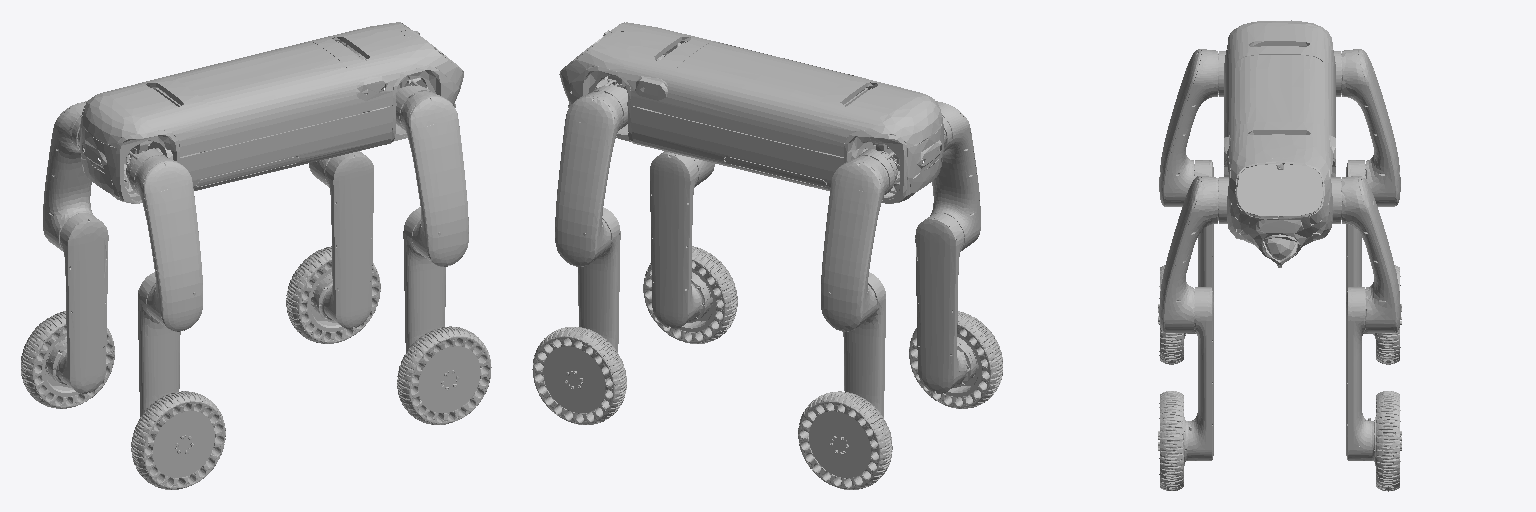
URDF robot description (urdf_20260423):
<?xml version="1.0" encoding="utf-8"?>
<!-- This URDF was automatically created by SolidWorks to URDF Exporter! Originally created by Stephen Brawner (brawner@gmail.com) 
     Commit Version: 1.6.0-4-g7f85cfe  Build Version: 1.6.7995.38578
     For more information, please see http://wiki.ros.org/sw_urdf_exporter -->
<robot
  name="urdf_20260423">
  <link
    name="Base_link">
    <inertial>
      <origin
        xyz="0.022644 -0.001048 0.006253"
        rpy="0 0 0" />
      <mass
        value="10.102" />
      <inertia
        ixx="0.040804057"
        ixy="0.003158398"
        ixz="-0.000128486"
        iyy="0.258243473"
        iyz="-0.000100824"
        izz="0.271783728" />
    </inertial>
    <visual>
      <origin
        xyz="0 0 0"
        rpy="0 0 0" />
      <geometry>
        <mesh
          filename="../meshes/Base_link.STL" />
      </geometry>
      <material
        name="">
        <color
          rgba="0.752941176470588 0.752941176470588 0.752941176470588 1" />
      </material>
    </visual>
    <collision>
      <origin
        xyz="0.025 0.0 0.009"
        rpy="0 0 0" />
      <geometry>
        <box size="0.71 0.22 0.188" />
      </geometry>
    </collision> 
  </link>
    
  <joint name="imu_joint" type="fixed">
    <parent link="Base_link"/>
    <child link="imu_link"/>
    <origin rpy="0 0 0" xyz="0 0 0"/>
  </joint>
  <link name="imu_link">
    <inertial>
      <mass value="0.001"/>
      <origin rpy="0 0 0" xyz="0 0 0"/>
      <inertia ixx="0.0001" ixy="0" ixz="0" iyy="0.0001" iyz="0" izz="0.0001"/>
    </inertial>
    <visual>
      <origin rpy="0 0 0" xyz="0 0 0"/>
      <geometry>
        <box size="0.001 0.001 0.001"/>
      </geometry>
    </visual>
    <collision>
      <origin rpy="0 0 0" xyz="0 0 0"/>
      <geometry>
        <box size=".001 .001 .001"/>
      </geometry>
    </collision>
  </link>
  
  <link
    name="FR_hip_link">
    <inertial>
      <origin
        xyz="0.041936 -0.037476 0.001212"
        rpy="0 0 0" />
      <mass
        value="0.594" />
      <inertia
        ixx="0.000478845"
        ixy="0.000030516"
        ixz="-0.000013605"
        iyy="0.000466795"
        iyz="0.000001550"
        izz="0.000491449" />
    </inertial>
    <visual>
      <origin
        xyz="0 0 0"
        rpy="0 0 0" />
      <geometry>
        <mesh
          filename="../meshes/FR_hip_link.STL" />
      </geometry>
      <material
        name="">
        <color
          rgba="0.752941176470588 0.752941176470588 0.752941176470588 1" />
      </material>
    </visual>
  </link>
  <joint
    name="FR_hip_joint"
    type="revolute">
    <origin
      xyz="0.2131 -0.05 0"
      rpy="0 0 0" />
    <parent
      link="Base_link" />
    <child
      link="FR_hip_link" />
    <axis
      xyz="1 0 0" />
    <limit
      lower="-0.34889"
      upper="0.61056"
      effort="48"
      velocity="12.57" />
  </joint>
  <link
    name="FR_thigh_link">
    <inertial>
      <origin
        xyz="-0.000440 -0.047736 -0.162708"
        rpy="0 0 0" />
      <mass
        value="0.853" />
      <inertia
        ixx="0.005786948"
        ixy="0.000000549"
        ixz="-0.000002171"
        iyy="0.005775438"
        iyz="-0.000818214"
        izz="0.000898839" />
    </inertial>
    <visual>
      <origin
        xyz="0 0 0"
        rpy="0 0 0" />
      <geometry>
        <mesh
          filename="../meshes/FR_thigh_link.STL" />
      </geometry>
      <material
        name="">
        <color
          rgba="0.752941176470588 0.752941176470588 0.752941176470588 1" />
      </material>
    </visual>
    <collision>
      <origin
        xyz="0.0 -0.062 -0.12"
        rpy="-0.21 0 0" />
      <geometry>
        <box size="0.095 0.035 0.25" />
      </geometry>
    </collision> 
  </link>
  <joint
    name="FR_thigh_joint"
    type="revolute">
    <origin
      xyz="0.0432 -0.06248 0"
      rpy="0 0 0" />
    <parent
      link="FR_hip_link" />
    <child
      link="FR_thigh_link" />
    <axis
      xyz="0 1 0" />
    <limit
      lower="-1.5613"
      upper="2.6952"
      effort="48"
      velocity="12.57" />
  </joint>
  <link
    name="FR_calf_link">
    <inertial>
      <origin
        xyz="0.000909 -0.016662 -0.194447"
        rpy="0 0 0" />
      <mass
        value="0.688" />
      <inertia
        ixx="0.020013503"
        ixy="0.000011235"
        ixz="0.000034707"
        iyy="0.020228686"
        iyz="-0.001315897"
        izz="0.001280043" />
    </inertial>
    <visual>
      <origin
        xyz="0 0 0"
        rpy="0 0 0" />
      <geometry>
        <mesh
          filename="../meshes/FR_calf_link.STL" />
      </geometry>
      <material
        name="">
        <color
          rgba="0.752941176470588 0.752941176470588 0.752941176470588 1" />
      </material>
    </visual>
    <collision>
      <origin
        xyz="0.0 0.01 -0.13"
        rpy="0 0 0" />
      <geometry>
        <box size="0.08 0.033 0.32" />
      </geometry>
    </collision> 
  </link>
  <joint
    name="FR_calf_joint"
    type="revolute">
    <origin
      xyz="0 -0.02915 -0.21"
      rpy="0 0 0" />
    <parent
      link="FR_thigh_link" />
    <child
      link="FR_calf_link" />
    <axis
      xyz="0 1 0" />
    <limit
      lower="-2.7475"
      upper="1.4741"
      effort="48"
      velocity="12.57" />
  </joint>
  <link
    name="FR_foot_link">
    <inertial>
      <origin
        xyz="0.000000 0.013540 0.000001"
        rpy="0 0 0" />
      <mass
        value="0.420" />
      <inertia
        ixx="0.001068399"
        ixy="0.000000000"
        ixz="-0.000000003"
        iyy="0.002037382"
        iyz="0.000000000"
        izz="0.001068388" />
    </inertial>
    <visual>
      <origin
        xyz="0 0 0"
        rpy="0 0 0" />
      <geometry>
        <mesh
          filename="../meshes/FR_foot_link.STL" />
      </geometry>
      <material
        name="">
        <color
          rgba="0.752941176470588 0.752941176470588 0.752941176470588 1" />
      </material>
    </visual>
    <collision>
      <origin
        xyz="0 0 0"
        rpy="0 0 0" />
      <geometry>
        <mesh
          filename="../meshes/FR_foot_link.STL" />
      </geometry>
    </collision>
  </link>
  <joint
    name="FR_foot_joint"
    type="continuous">
    <origin
      xyz="0 -0.060797 -0.25"
      rpy="0 0 0" />
    <parent
      link="FR_calf_link" />
    <child
      link="FR_foot_link" />
    <axis
      xyz="0 1 0" />
    <limit
      effort="24"
      velocity="37.7" />
  </joint>
  <link
    name="FL_hip_link">
    <inertial>
      <origin
        xyz="0.042292 0.037471 0.000978"
        rpy="0 0 0" />
      <mass
        value="0.594" />
      <inertia
        ixx="0.000477476"
        ixy="-0.000028098"
        ixz="-0.000014122"
        iyy="0.000467730"
        iyz="-0.000003242"
        izz="0.000494014" />
    </inertial>
    <visual>
      <origin
        xyz="0 0 0"
        rpy="0 0 0" />
      <geometry>
        <mesh
          filename="../meshes/FL_hip_link.STL" />
      </geometry>
      <material
        name="">
        <color
          rgba="0.752941176470588 0.752941176470588 0.752941176470588 1" />
      </material>
    </visual>
  </link>
  <joint
    name="FL_hip_joint"
    type="revolute">
    <origin
      xyz="0.2131 0.05 0"
      rpy="0 0 0" />
    <parent
      link="Base_link" />
    <child
      link="FL_hip_link" />
    <axis
      xyz="1 0 0" />
    <limit
      lower="-0.61056"
      upper="0.34889"
      effort="48"
      velocity="12.57" />
  </joint>
  <link
    name="FL_thigh_link">
    <inertial>
      <origin
        xyz="-0.000658 0.047743 -0.162875"
        rpy="0 0 0" />
      <mass
        value="0.853" />
      <inertia
        ixx="0.005802502"
        ixy="0.000003729"
        ixz="-0.000013513"
        iyy="0.005792851"
        iyz="0.000821001"
        izz="0.000901601" />
    </inertial>
    <visual>
      <origin
        xyz="0 0 0"
        rpy="0 0 0" />
      <geometry>
        <mesh
          filename="../meshes/FL_thigh_link.STL" />
      </geometry>
      <material
        name="">
        <color
          rgba="0.752941176470588 0.752941176470588 0.752941176470588 1" />
      </material>
    </visual>
    <collision>
      <origin
        xyz="0.0 0.062 -0.12"
        rpy="0.21 0 0" />
      <geometry>
        <box size="0.095 0.035 0.25" />
      </geometry>
    </collision> 
  </link>
  <joint
    name="FL_thigh_joint"
    type="revolute">
    <origin
      xyz="0.0432 0.06248 0"
      rpy="0 0 0" />
    <parent
      link="FL_hip_link" />
    <child
      link="FL_thigh_link" />
    <axis
      xyz="0 1 0" />
    <limit
      lower="-1.5613"
      upper="2.6952"
      effort="48"
      velocity="12.57" />
  </joint>
  <link
    name="FL_calf_link">
    <inertial>
      <origin
        xyz="-0.000904 0.016656 -0.217363"
        rpy="0 0 0" />
      <mass
        value="0.688" />
      <inertia
        ixx="0.018453974"
        ixy="0.000011100"
        ixz="-0.000020596"
        iyy="0.018669061"
        iyz="0.000334096"
        izz="0.001280151" />
    </inertial>
    <visual>
      <origin
        xyz="0 0 0"
        rpy="0 0 0" />
      <geometry>
        <mesh
          filename="../meshes/FL_calf_link.STL" />
      </geometry>
      <material
        name="">
        <color
          rgba="0.752941176470588 0.752941176470588 0.752941176470588 1" />
      </material>
    </visual>
    <collision>
      <origin
        xyz="0.0 -0.01 -0.13"
        rpy="0 0 0" />
      <geometry>
        <box size="0.08 0.033 0.32" />
      </geometry>
    </collision> 
  </link>
  <joint
    name="FL_calf_joint"
    type="revolute">
    <origin
      xyz="0 0.02915 -0.21"
      rpy="0 0 0" />
    <parent
      link="FL_thigh_link" />
    <child
      link="FL_calf_link" />
    <axis
      xyz="0 1 0" />
    <limit
      lower="-2.7475"
      upper="1.4741"
      effort="48"
      velocity="12.57" />
  </joint>
  <link
    name="FL_foot_link">
    <inertial>
      <origin
        xyz="0.000000 -0.013540 0.000000"
        rpy="0 0 0" />
      <mass
        value="0.420" />
      <inertia
        ixx="0.001068390"
        ixy="0.000000000"
        ixz="0.000000005"
        iyy="0.002037382"
        iyz="0.000000000"
        izz="0.001068397" />
    </inertial>
    <visual>
      <origin
        xyz="0 0 0"
        rpy="0 0 0" />
      <geometry>
        <mesh
          filename="../meshes/FL_foot_link.STL" />
      </geometry>
      <material
        name="">
        <color
          rgba="0.752941176470588 0.752941176470588 0.752941176470588 1" />
      </material>
    </visual>
    <collision>
      <origin
        xyz="0 0 0"
        rpy="0 0 0" />
      <geometry>
        <mesh
          filename="../meshes/FL_foot_link.STL" />
      </geometry>
    </collision>
  </link>
  <joint
    name="FL_foot_joint"
    type="continuous">
    <origin
      xyz="0 0.060797 -0.25"
      rpy="0 0 0" />
    <parent
      link="FL_calf_link" />
    <child
      link="FL_foot_link" />
    <axis
      xyz="0 1 0" />
    <limit
      effort="24"
      velocity="37.7" />
  </joint>
  <link
    name="RR_hip_link">
    <inertial>
      <origin
        xyz="-0.042292 -0.037471 0.000978"
        rpy="0 0 0" />
      <mass
        value="0.594" />
      <inertia
        ixx="0.000477476"
        ixy="-0.000028098"
        ixz="0.000014122"
        iyy="0.000467730"
        iyz="0.000003242"
        izz="0.000494014" />
    </inertial>
    <visual>
      <origin
        xyz="0 0 0"
        rpy="0 0 0" />
      <geometry>
        <mesh
          filename="../meshes/RR_hip_link.STL" />
      </geometry>
      <material
        name="">
        <color
          rgba="0.752941176470588 0.752941176470588 0.752941176470588 1" />
      </material>
    </visual>
  </link>
  <joint
    name="RR_hip_joint"
    type="revolute">
    <origin
      xyz="-0.22064 -0.05 0"
      rpy="0 0 0" />
    <parent
      link="Base_link" />
    <child
      link="RR_hip_link" />
    <axis
      xyz="1 0 0" />
    <limit
      lower="-0.34889"
      upper="0.61056"
      effort="48"
      velocity="12.57" />
  </joint>
  <link
    name="RR_thigh_link">
    <inertial>
      <origin
        xyz="0.000658 -0.047743 -0.162875"
        rpy="0 0 0" />
      <mass
        value="0.853" />
      <inertia
        ixx="0.005802502"
        ixy="0.000003729"
        ixz="0.000013513"
        iyy="0.005792851"
        iyz="-0.000821001"
        izz="0.000901601" />
    </inertial>
    <visual>
      <origin
        xyz="0 0 0"
        rpy="0 0 0" />
      <geometry>
        <mesh
          filename="../meshes/RR_thigh_link.STL" />
      </geometry>
      <material
        name="">
        <color
          rgba="0.752941176470588 0.752941176470588 0.752941176470588 1" />
      </material>
    </visual>
    <collision>
      <origin
        xyz="0.0 -0.062 -0.12"
        rpy="-0.21 0 0" />
      <geometry>
        <box size="0.095 0.035 0.25" />
      </geometry>
     </collision> 
  </link>
  <joint
    name="RR_thigh_joint"
    type="revolute">
    <origin
      xyz="-0.0432 -0.06248 0"
      rpy="0 0 0" />
    <parent
      link="RR_hip_link" />
    <child
      link="RR_thigh_link" />
    <axis
      xyz="0 1 0" />
    <limit
      lower="-2.6952"
      upper="1.5613"
      effort="48"
      velocity="12.57" />
  </joint>
  <link
    name="RR_calf_link">
    <inertial>
      <origin
        xyz="0.000903 -0.016656 -0.217363"
        rpy="0 0 0" />
      <mass
        value="0.688" />
      <inertia
        ixx="0.018453974"
        ixy="0.000011100"
        ixz="0.000020596"
        iyy="0.018669061"
        iyz="-0.000334096"
        izz="0.001280151" />
    </inertial>
    <visual>
      <origin
        xyz="0 0 0"
        rpy="0 0 0" />
      <geometry>
        <mesh
          filename="../meshes/RR_calf_link.STL" />
      </geometry>
      <material
        name="">
        <color
          rgba="0.752941176470588 0.752941176470588 0.752941176470588 1" />
      </material>
    </visual>
    <collision>
      <origin
        xyz="0.0 0.01 -0.13"
        rpy="0 0 0" />
      <geometry>
        <box size="0.08 0.033 0.32" />
      </geometry>
    </collision> 
  </link>
  <joint
    name="RR_calf_joint"
    type="revolute">
    <origin
      xyz="0 -0.02915 -0.21"
      rpy="0 0 0" />
    <parent
      link="RR_thigh_link" />
    <child
      link="RR_calf_link" />
    <axis
      xyz="0 1 0" />
    <limit
      lower="-1.4741"
      upper="2.7475"
      effort="48"
      velocity="12.57" />
  </joint>
  <link
    name="RR_foot_link">
    <inertial>
      <origin
        xyz="-0.000001 0.013540 0.000000"
        rpy="0 0 0" />
      <mass
        value="0.420" />
      <inertia
        ixx="0.001068388"
        ixy="0.000000000"
        ixz="0.000000001"
        iyy="0.002037382"
        iyz="0.000000000"
        izz="0.001068399" />
    </inertial>
    <visual>
      <origin
        xyz="0 0 0"
        rpy="0 0 0" />
      <geometry>
        <mesh
          filename="../meshes/RR_foot_link.STL" />
      </geometry>
      <material
        name="">
        <color
          rgba="0.752941176470588 0.752941176470588 0.752941176470588 1" />
      </material>
    </visual>
    <collision>
      <origin
        xyz="0 0 0"
        rpy="0 0 0" />
      <geometry>
        <mesh
          filename="../meshes/RR_foot_link.STL" />
      </geometry>
    </collision>
  </link>
  <joint
    name="RR_foot_joint"
    type="continuous">
    <origin
      xyz="0 -0.060797 -0.25"
      rpy="0 0 0" />
    <parent
      link="RR_calf_link" />
    <child
      link="RR_foot_link" />
    <axis
      xyz="0 1 0" />
    <limit
      effort="24"
      velocity="37.7" />
  </joint>
  <link
    name="RL_hip_link">
    <inertial>
      <origin
        xyz="-0.041936 0.037476 0.001212"
        rpy="0 0 0" />
      <mass
        value="0.594" />
      <inertia
        ixx="0.000478845"
        ixy="0.000030516"
        ixz="0.000013605"
        iyy="0.000466795"
        iyz="-0.000001550"
        izz="0.000491449" />
    </inertial>
    <visual>
      <origin
        xyz="0 0 0"
        rpy="0 0 0" />
      <geometry>
        <mesh
          filename="../meshes/RL_hip_link.STL" />
      </geometry>
      <material
        name="">
        <color
          rgba="0.752941176470588 0.752941176470588 0.752941176470588 1" />
      </material>
    </visual>
  </link>
  <joint
    name="RL_hip_joint"
    type="revolute">
    <origin
      xyz="-0.22064 0.05 0"
      rpy="0 0 0" />
    <parent
      link="Base_link" />
    <child
      link="RL_hip_link" />
    <axis
      xyz="1 0 0" />
    <limit
      lower="-0.61056"
      upper="0.34889"
      effort="48"
      velocity="12.57" />
  </joint>
  <link
    name="RL_thigh_link">
    <inertial>
      <origin
        xyz="0.000440 0.047736 -0.162708"
        rpy="0 0 0" />
      <mass
        value="0.853" />
      <inertia
        ixx="0.005786948"
        ixy="0.000000549"
        ixz="0.000002171"
        iyy="0.005775438"
        iyz="0.000818214"
        izz="0.000898839" />
    </inertial>
    <visual>
      <origin
        xyz="0 0 0"
        rpy="0 0 0" />
      <geometry>
        <mesh
          filename="../meshes/RL_thigh_link.STL" />
      </geometry>
      <material
        name="">
        <color
          rgba="0.752941176470588 0.752941176470588 0.752941176470588 1" />
      </material>
    </visual>
    <collision>
      <origin
        xyz="0.0 0.062 -0.12"
        rpy="0.21 0 0" />
      <geometry>
        <box size="0.095 0.035 0.25" />
      </geometry>
    </collision> 
  </link>
  <joint
    name="RL_thigh_joint"
    type="revolute">
    <origin
      xyz="-0.0432 0.06248 0"
      rpy="0 0 0" />
    <parent
      link="RL_hip_link" />
    <child
      link="RL_thigh_link" />
    <axis
      xyz="0 1 0" />
    <limit
      lower="-2.6952"
      upper="1.5613"
      effort="48"
      velocity="12.57" />
  </joint>
  <link
    name="RL_calf_link">
    <inertial>
      <origin
        xyz="-0.000908 0.016662 -0.194447"
        rpy="0 0 0" />
      <mass
        value="0.688" />
      <inertia
        ixx="0.020013503"
        ixy="0.000011235"
        ixz="-0.000034707"
        iyy="0.020228686"
        iyz="0.001315897"
        izz="0.001280043" />
    </inertial>
    <visual>
      <origin
        xyz="0 0 0"
        rpy="0 0 0" />
      <geometry>
        <mesh
          filename="../meshes/RL_calf_link.STL" />
      </geometry>
      <material
        name="">
        <color
          rgba="0.752941176470588 0.752941176470588 0.752941176470588 1" />
      </material>
    </visual>
    <collision>
      <origin
        xyz="0.0 -0.01 -0.13"
        rpy="0 0 0" />
      <geometry>
        <box size="0.08 0.033 0.32" />
      </geometry>
    </collision> 
  </link>
  <joint
    name="RL_calf_joint"
    type="revolute">
    <origin
      xyz="0 0.02915 -0.21"
      rpy="0 0 0" />
    <parent
      link="RL_thigh_link" />
    <child
      link="RL_calf_link" />
    <axis
      xyz="0 1 0" />
    <limit
      lower="-1.4741"
      upper="2.7475"
      effort="48"
      velocity="12.57" />
  </joint>
  <link
    name="RL_foot_link">
    <inertial>
      <origin
        xyz="0.000000 -0.013540 0.000000"
        rpy="0 0 0" />
      <mass
        value="0.420" />
      <inertia
        ixx="0.001068388"
        ixy="0.000000000"
        ixz="0.000000003"
        iyy="0.002037382"
        iyz="0.000000000"
        izz="0.001068399" />
    </inertial>
    <visual>
      <origin
        xyz="0 0 0"
        rpy="0 0 0" />
      <geometry>
        <mesh
          filename="../meshes/RL_foot_link.STL" />
      </geometry>
      <material
        name="">
        <color
          rgba="0.752941176470588 0.752941176470588 0.752941176470588 1" />
      </material>
    </visual>
    <collision>
      <origin
        xyz="0 0 0"
        rpy="0 0 0" />
      <geometry>
        <mesh
          filename="../meshes/RL_foot_link.STL" />
      </geometry>
    </collision>
  </link>
  <joint
    name="RL_foot_joint"
    type="continuous">
    <origin
      xyz="0 0.060797 -0.25"
      rpy="0 0 0" />
    <parent
      link="RL_calf_link" />
    <child
      link="RL_foot_link" />
    <axis
      xyz="0 1 0" />
    <limit
      effort="24"
      velocity="37.7" />
  </joint>
</robot>

--- Render facts (derived) ---
The picture shows the robot from 3 angles, left to right: view 1: azimuth 30°, elevation 25°; view 2: azimuth 150°, elevation 25°; view 3: azimuth 270°, elevation 25°; orthographic projection.
Model urdf_20260423 with 18 links and 17 joints (12 revolute, 4 continuous, 1 fixed), rooted at Base_link, posed every joint at zero.
Links seen in each view (by area): view 1: Base_link, RR_thigh_link, FR_thigh_link, RL_calf_link, FL_calf_link, RR_foot_link, FR_foot_link, RL_thigh_link, RR_calf_link, FR_calf_link, FL_foot_link, RL_foot_link (+1 smaller); view 2: Base_link, FL_thigh_link, RL_thigh_link, RR_calf_link, FR_calf_link, RL_foot_link, FL_foot_link, RR_thigh_link, RL_calf_link, FL_calf_link, FR_foot_link, RR_foot_link (+1 smaller); view 3: Base_link, FL_thigh_link, FR_thigh_link, RR_thigh_link, RL_thigh_link, FL_calf_link, FR_calf_link, FL_foot_link, FR_foot_link, RL_calf_link, RR_calf_link, RR_foot_link (+1 smaller).
Boxes of the visible links, bbox=[...] form: Base_link: bbox=[80, 22, 463, 203]; RR_thigh_link: bbox=[134, 155, 202, 331]; FR_thigh_link: bbox=[400, 91, 468, 266]; RL_calf_link: bbox=[45, 213, 108, 393]; FL_calf_link: bbox=[311, 151, 373, 328]; RR_foot_link: bbox=[131, 391, 225, 489]; FR_foot_link: bbox=[397, 326, 491, 424]; RL_thigh_link: bbox=[43, 101, 93, 250]; RR_calf_link: bbox=[138, 272, 180, 416]; FR_calf_link: bbox=[403, 207, 445, 351]; FL_foot_link: bbox=[286, 246, 380, 343]; RL_foot_link: bbox=[21, 311, 114, 408]; Base_link: bbox=[559, 22, 943, 203]; FL_thigh_link: bbox=[555, 91, 623, 266]; RL_thigh_link: bbox=[821, 156, 888, 331]; RR_calf_link: bbox=[915, 213, 978, 393]; FR_calf_link: bbox=[650, 151, 712, 328]; RL_foot_link: bbox=[798, 391, 892, 489]; FL_foot_link: bbox=[532, 327, 626, 424]; RR_thigh_link: bbox=[930, 101, 980, 250]; RL_calf_link: bbox=[843, 272, 885, 416]; FL_calf_link: bbox=[578, 207, 620, 351]; FR_foot_link: bbox=[643, 246, 737, 343]; RR_foot_link: bbox=[909, 311, 1002, 408]; Base_link: bbox=[1224, 20, 1335, 267]; FL_thigh_link: bbox=[1342, 176, 1400, 332]; FR_thigh_link: bbox=[1159, 176, 1218, 332]; RR_thigh_link: bbox=[1159, 49, 1218, 206]; RL_thigh_link: bbox=[1341, 49, 1400, 206]; FL_calf_link: bbox=[1346, 287, 1375, 465]; FR_calf_link: bbox=[1184, 287, 1213, 465]; FL_foot_link: bbox=[1376, 391, 1401, 491]; FR_foot_link: bbox=[1158, 391, 1183, 490]; RL_calf_link: bbox=[1346, 160, 1375, 338]; RR_calf_link: bbox=[1184, 160, 1213, 338]; RR_foot_link: bbox=[1158, 265, 1183, 364].
Size in the robot's own frame: 0.7299 by 0.4221 by 0.6441 metres.
Meshes: 17 distinct files referenced, 17 mesh visuals loaded (17 binary STL).
